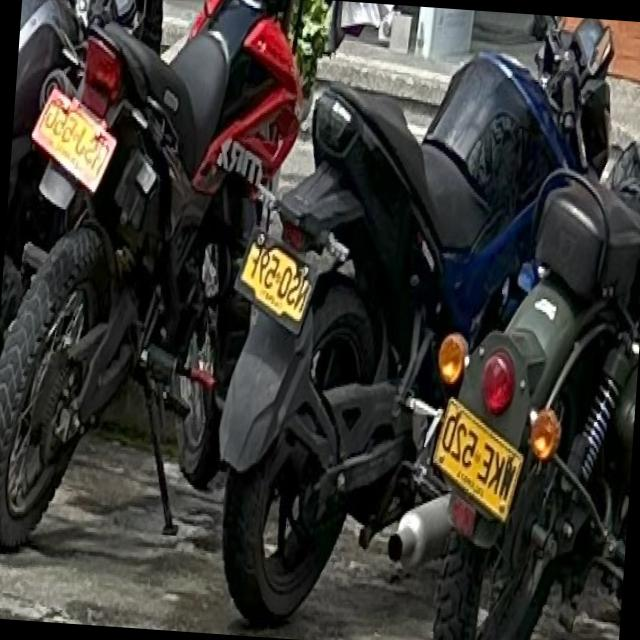number plate: (435, 396, 524, 517), (34, 87, 117, 189), (238, 232, 317, 329)
